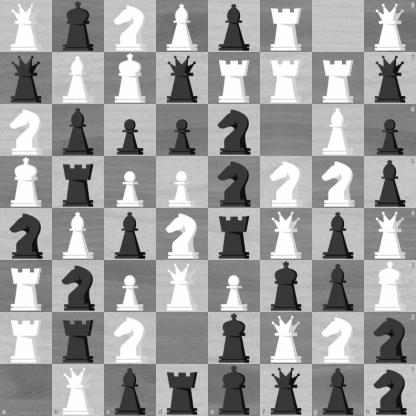B: (53, 53, 104, 104), (53, 209, 104, 260), (157, 1, 208, 52), (313, 105, 364, 156)
K: (364, 260, 416, 312), (1, 157, 52, 208), (105, 53, 156, 104)
N: (1, 105, 52, 156), (105, 1, 156, 52), (105, 313, 156, 364), (157, 209, 208, 260), (261, 157, 312, 208), (313, 157, 364, 208), (313, 313, 364, 364)
P: (105, 157, 156, 208), (105, 261, 156, 312), (157, 157, 208, 208), (209, 261, 260, 312)
Q: (52, 364, 104, 416), (364, 0, 416, 52), (364, 209, 416, 260), (1, 1, 52, 52), (157, 261, 208, 312), (261, 209, 312, 260), (261, 313, 312, 364)
R: (1, 261, 52, 312), (1, 313, 52, 364), (209, 53, 260, 104), (261, 1, 312, 52), (261, 53, 312, 104), (313, 53, 364, 104)
b: (364, 156, 416, 209), (104, 364, 156, 416), (312, 364, 364, 416), (53, 105, 104, 156), (105, 209, 156, 260), (209, 1, 260, 52), (313, 209, 364, 260), (313, 261, 364, 312)
board: (0, 0, 415, 415)
k: (209, 364, 260, 416), (53, 1, 104, 52), (209, 313, 260, 364), (261, 261, 312, 312)
n: (364, 312, 416, 364), (364, 364, 416, 416), (1, 209, 52, 260), (53, 261, 104, 312), (209, 105, 260, 156), (209, 157, 260, 208)
p: (364, 104, 416, 156), (105, 105, 156, 156), (157, 105, 208, 156)
q: (260, 364, 312, 416), (364, 52, 416, 104), (1, 53, 52, 104), (157, 53, 208, 104)
r: (156, 364, 209, 416), (53, 157, 104, 208), (53, 313, 104, 364), (209, 209, 260, 260)
